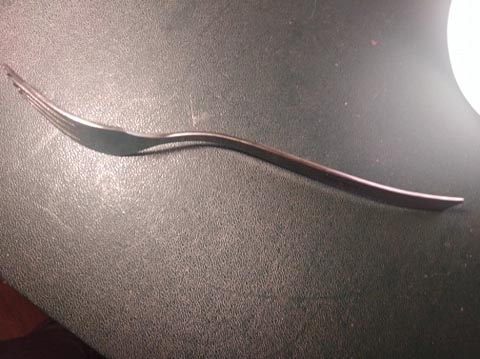Widelec: (1, 60, 157, 173)
